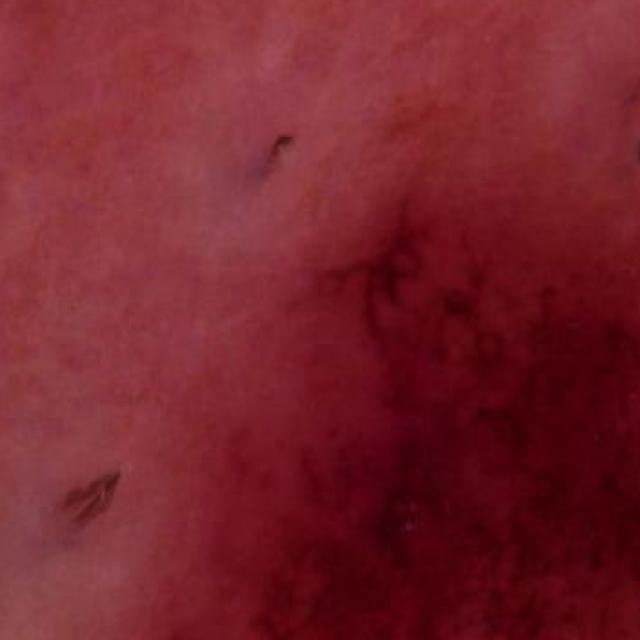NV: (60, 52, 640, 640)
